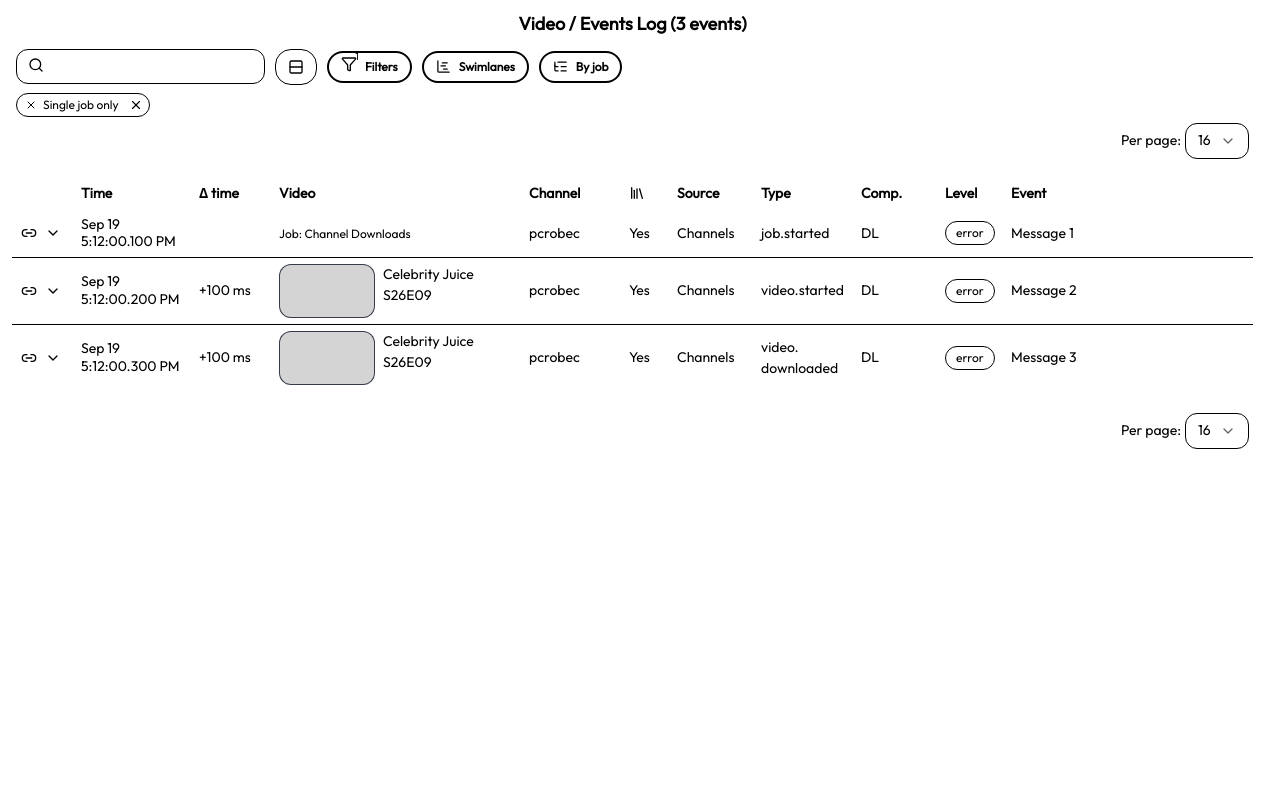
Scenario: EventLog page › optional log views › shows the swimlanes above the table when switched on
Click the button "Swimlanes".
click(475, 67)  # box [422,51,529,83]
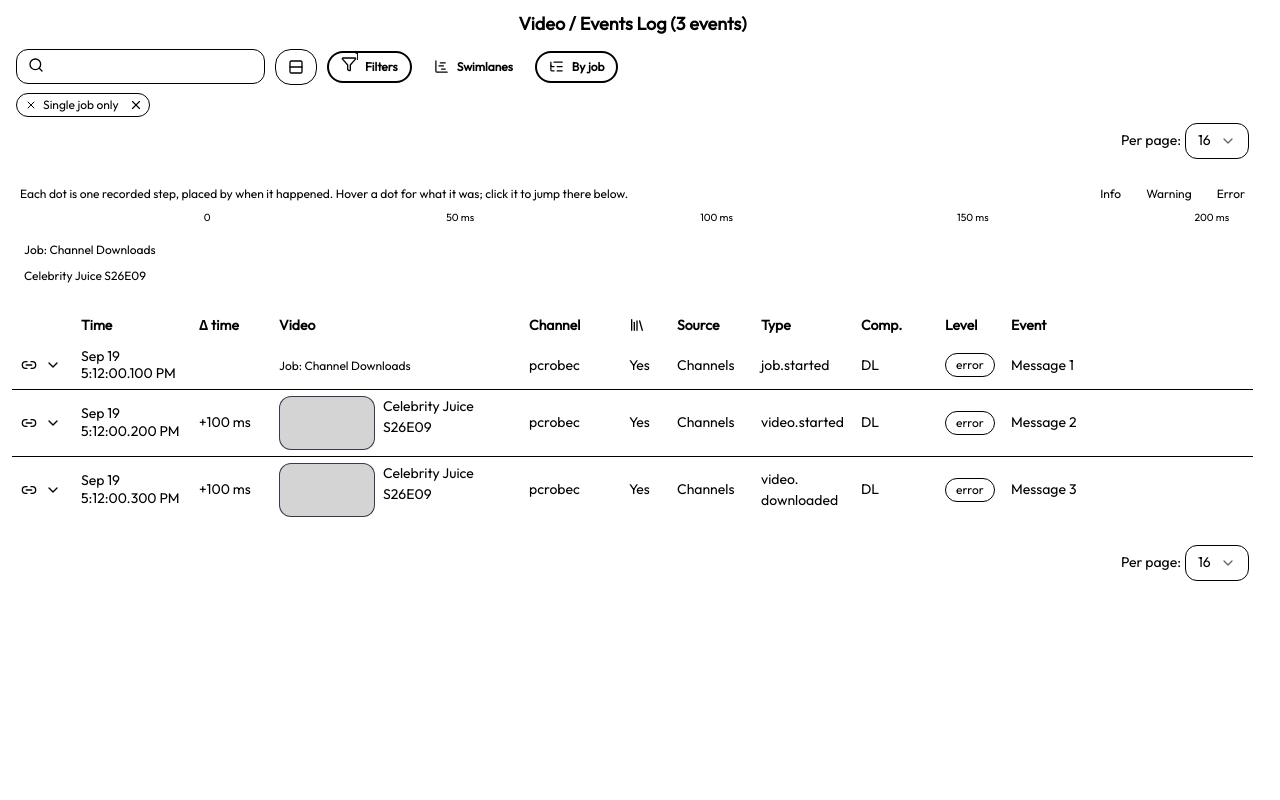
Expected: the text "Message 2" is shown, [1011,413,1076,431]
Expected: the element with test id "event-swimlanes" is shown, [12,177,1253,297]
